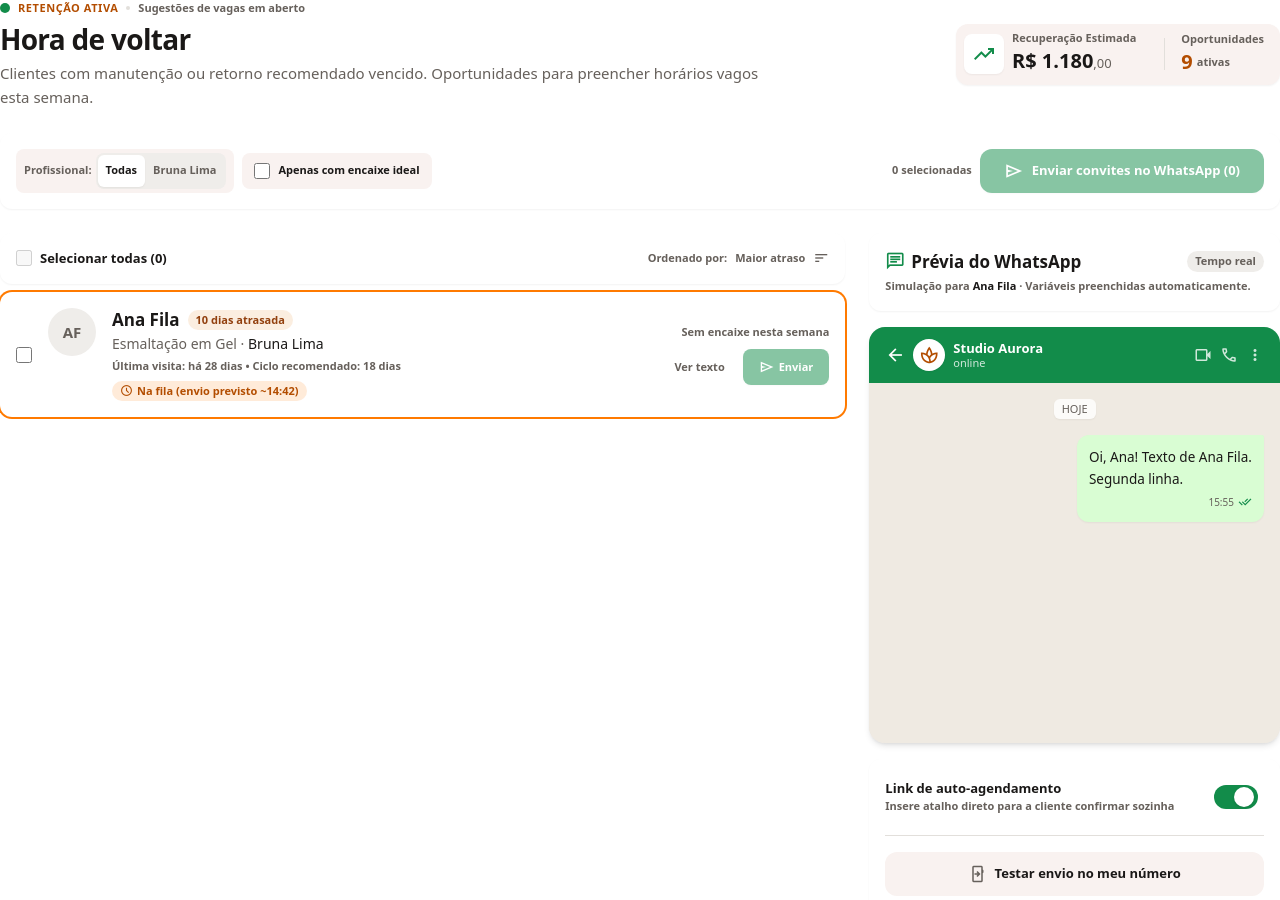
it: HoraDeVoltar › "Ver texto" de quem está na fila não permite enviar
Expected: the element named "Oportunidade de Ana Fila" is shown, x1=0 y1=292 x2=845 y2=417
Click the button "Ver texto". click: x=700, y=367
box: x1=664 y1=349 x2=735 y2=385
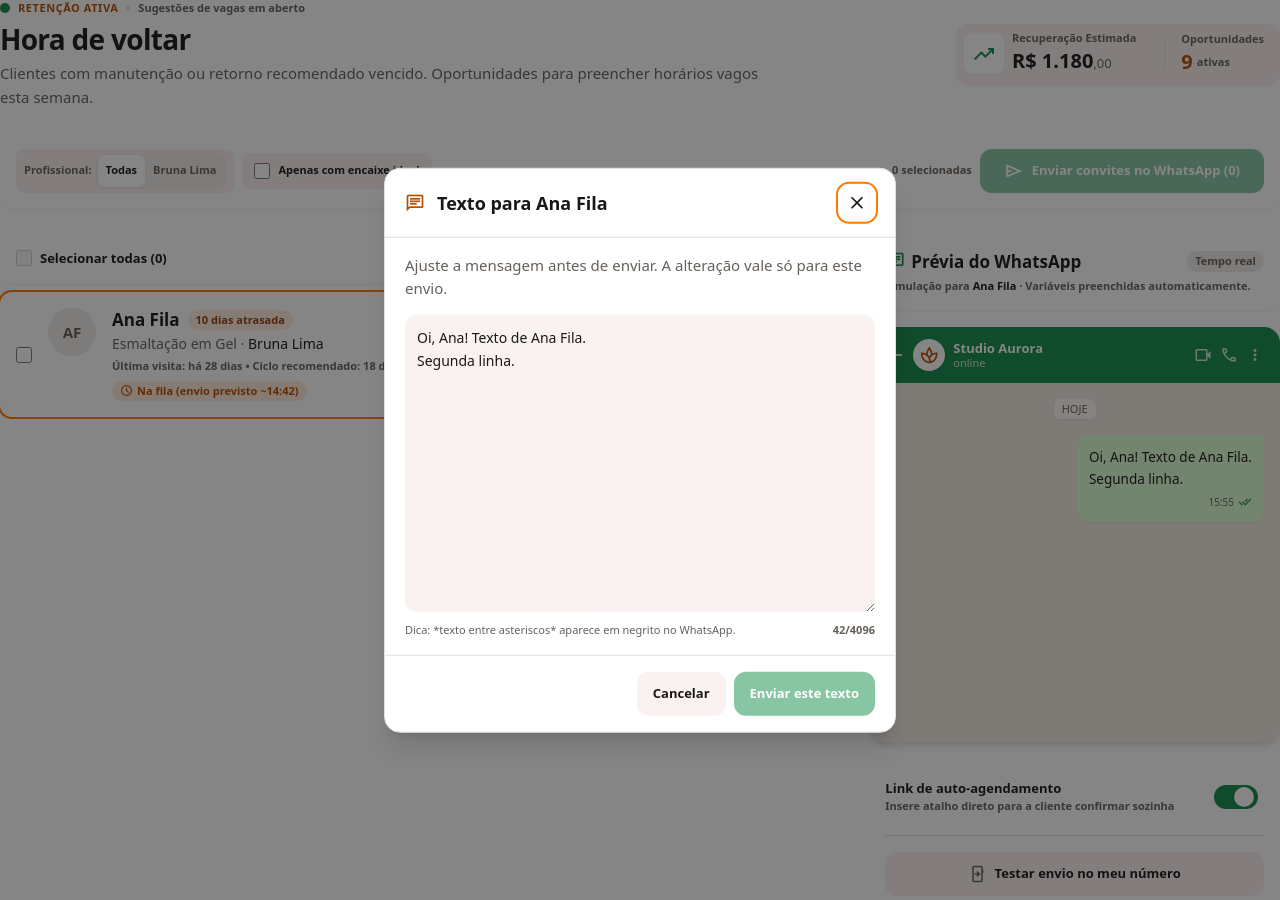
Result: the text box named "Texto do convite" is shown at x1=405 y1=315 x2=875 y2=612
Result: the button "Enviar este texto" is disabled at x1=734 y1=671 x2=875 y2=715
